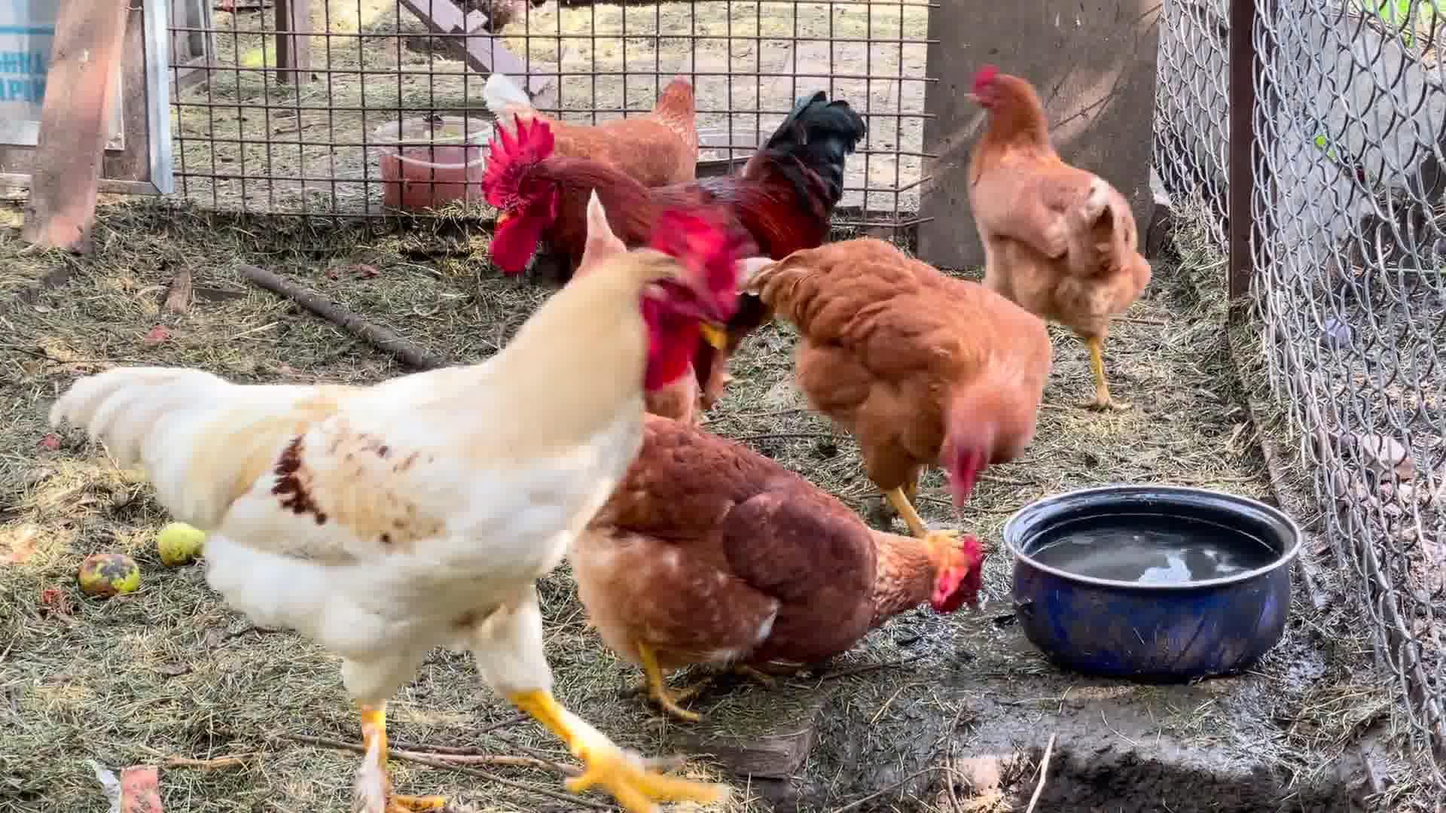Normal: (40, 185, 741, 813), (650, 407, 995, 732), (494, 94, 861, 377), (778, 241, 1064, 532), (957, 61, 1158, 405), (458, 66, 713, 184)
